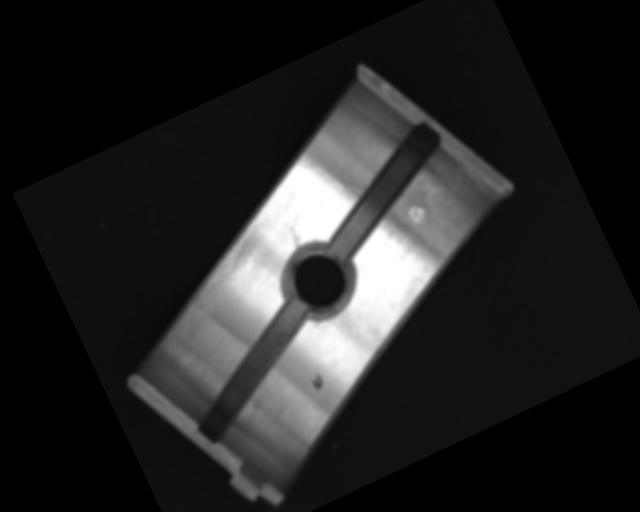blot: (309, 371, 327, 392)
bruise: (407, 202, 430, 226)
gap: (166, 296, 340, 444), (302, 122, 467, 258)
hole: (269, 235, 366, 330)
nick: (292, 145, 344, 204), (287, 225, 304, 250)
scratch: (132, 222, 283, 343)
